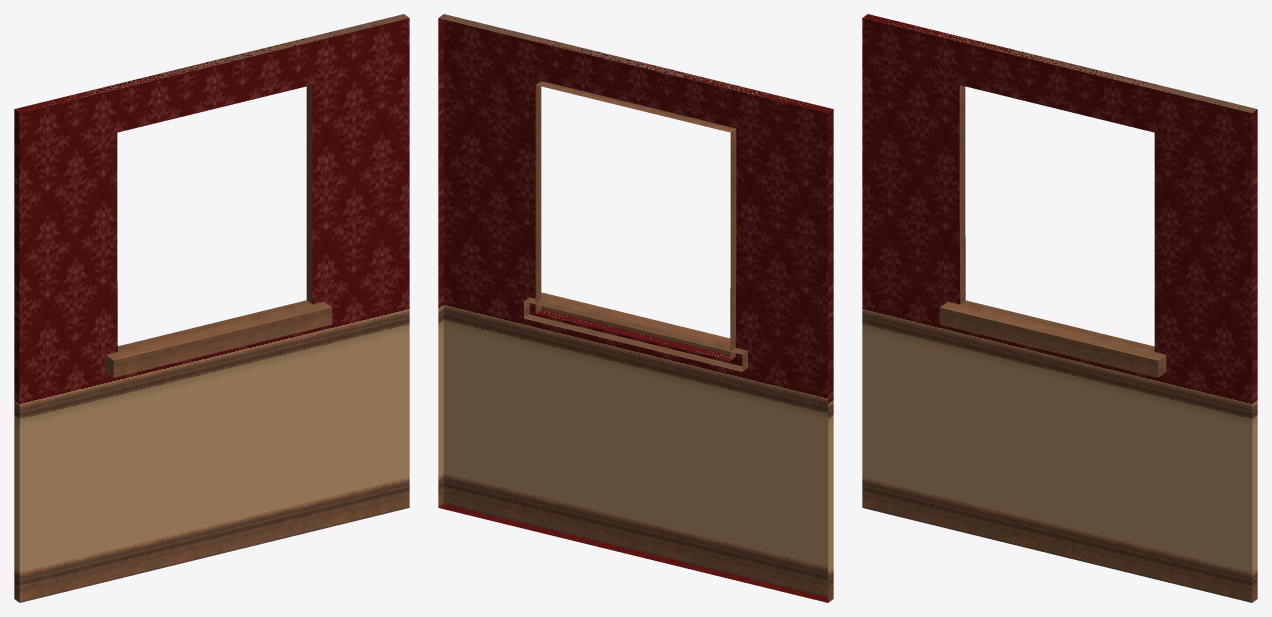
Rendered from window_wall1.glb.
3 renders of one model, left to right at view 1: azimuth 30°, elevation 25°; view 2: azimuth 150°, elevation 25°; view 3: azimuth 330°, elevation 25°, orthographic.
Parts seen in each view (by area): view 1: window_wall1; view 2: window_wall1; view 3: window_wall1.
Part boxes in pixels (x1,y1,x2,y2): window_wall1: (14,14,409,602); window_wall1: (438,14,833,602); window_wall1: (862,14,1257,602).
Size of the model in its own units: 2 by 2.4 by 0.1226.
Materials: 1 (1 with a texture image).
